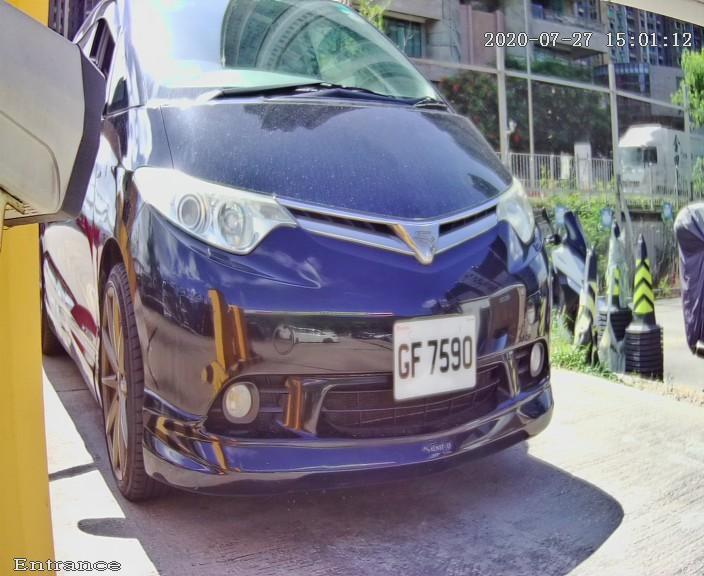privatecar: (45, 29, 591, 515)
